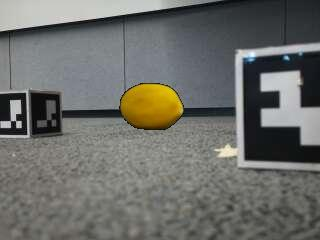lemon: (121, 83, 183, 129)
